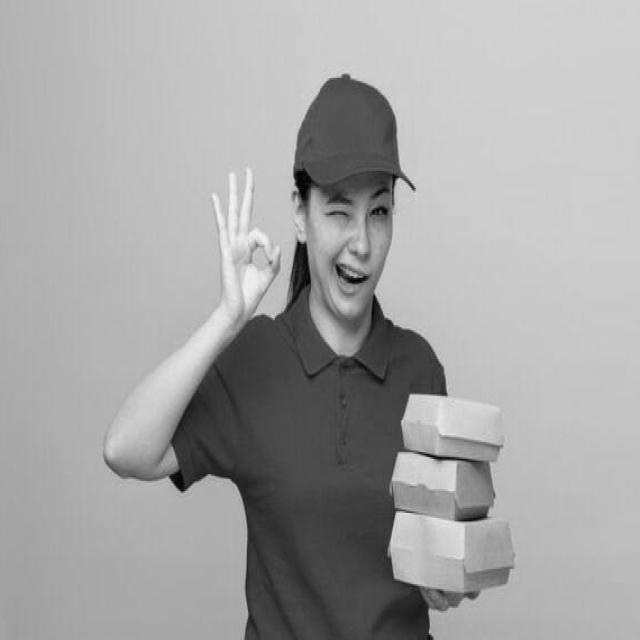perfect: (208, 163, 286, 329)
